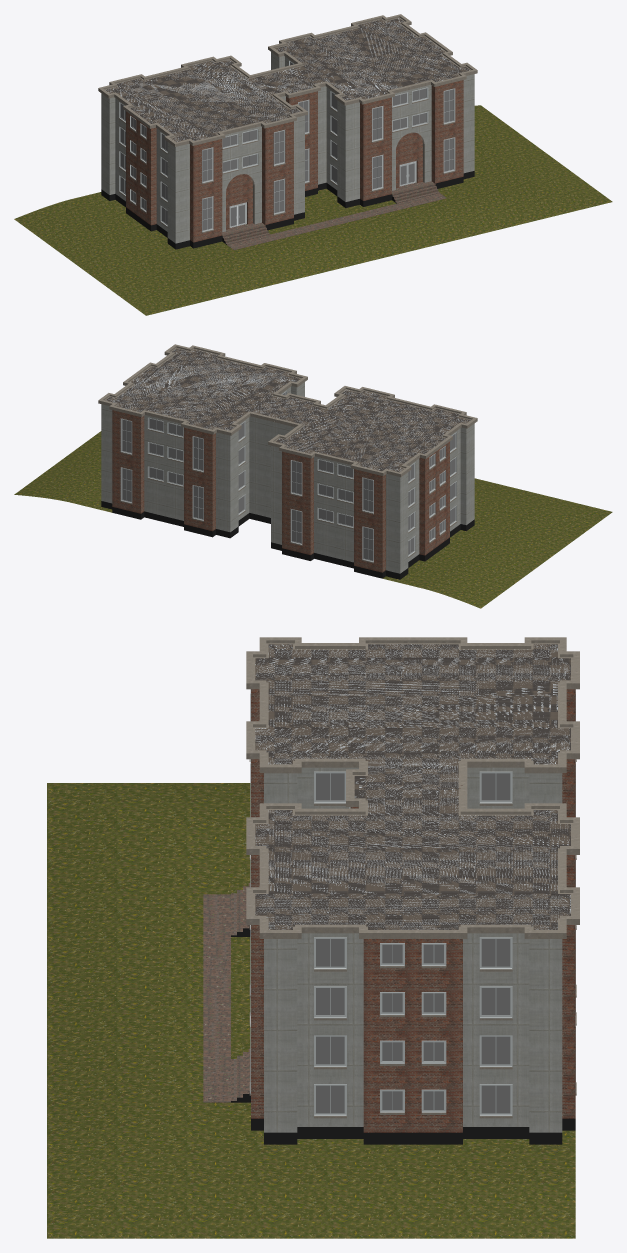
The picture shows the model from 3 angles, top to bottom: view 1: azimuth 30°, elevation 25°; view 2: azimuth 150°, elevation 25°; view 3: azimuth 270°, elevation 25°; orthographic projection. The views are drawn at different scales.
Visible parts, largest first — view 1: Material2.006, Material2.005, Material2.002, Material2.001, Material3, Material2.009, Material2.003, Material2.008, Material2.007, Material2; view 2: Material2.005, Material2.001, Material2.006, Material2.002, Material3, Material2.003, Material2.009, Material2.008, Material2; view 3: Material2.006, Material2.005, Material2.001, Material3, Material2.002, Material2.003, Material2.009, Material2.007, Material2.008, Material2.
Part boxes in pixels (x1=…): Material2.006: x1=14, y1=105, x2=612, y2=315; Material2.005: x1=105, y1=18, x2=470, y2=142; Material2.002: x1=126, y1=80, x2=463, y2=242; Material2.001: x1=101, y1=52, x2=474, y2=243; Material3: x1=105, y1=18, x2=469, y2=141; Material2.009: x1=120, y1=62, x2=453, y2=230; Material2.003: x1=98, y1=14, x2=477, y2=233; Material2.008: x1=119, y1=60, x2=455, y2=232; Material2.007: x1=222, y1=181, x2=446, y2=250; Material2: x1=101, y1=171, x2=474, y2=249; Material2.005: x1=105, y1=348, x2=470, y2=472; Material2.001: x1=101, y1=382, x2=474, y2=573; Material2.006: x1=14, y1=431, x2=612, y2=608; Material2.002: x1=112, y1=410, x2=449, y2=572; Material3: x1=106, y1=349, x2=467, y2=471; Material2.003: x1=98, y1=344, x2=477, y2=563; Material2.009: x1=122, y1=392, x2=455, y2=560; Material2.008: x1=120, y1=391, x2=456, y2=562; Material2: x1=101, y1=501, x2=474, y2=579; Material2.006: x1=47, y1=783, x2=575, y2=1238; Material2.005: x1=255, y1=644, x2=570, y2=929; Material2.001: x1=264, y1=767, x2=562, y2=1132; Material3: x1=255, y1=644, x2=570, y2=929; Material2.002: x1=251, y1=689, x2=575, y2=1132; Material2.003: x1=246, y1=637, x2=579, y2=1118; Material2.009: x1=316, y1=773, x2=510, y2=1113; Material2.007: x1=203, y1=883, x2=250, y2=1102; Material2.008: x1=250, y1=689, x2=575, y2=1115; Material2: x1=231, y1=927, x2=575, y2=1144.
Bounding box in the file's own units: 19526 × 4508 × 9653.
